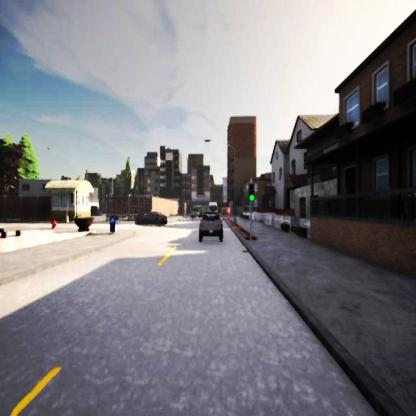vehicle: (197, 213, 224, 239), (135, 212, 167, 226)
